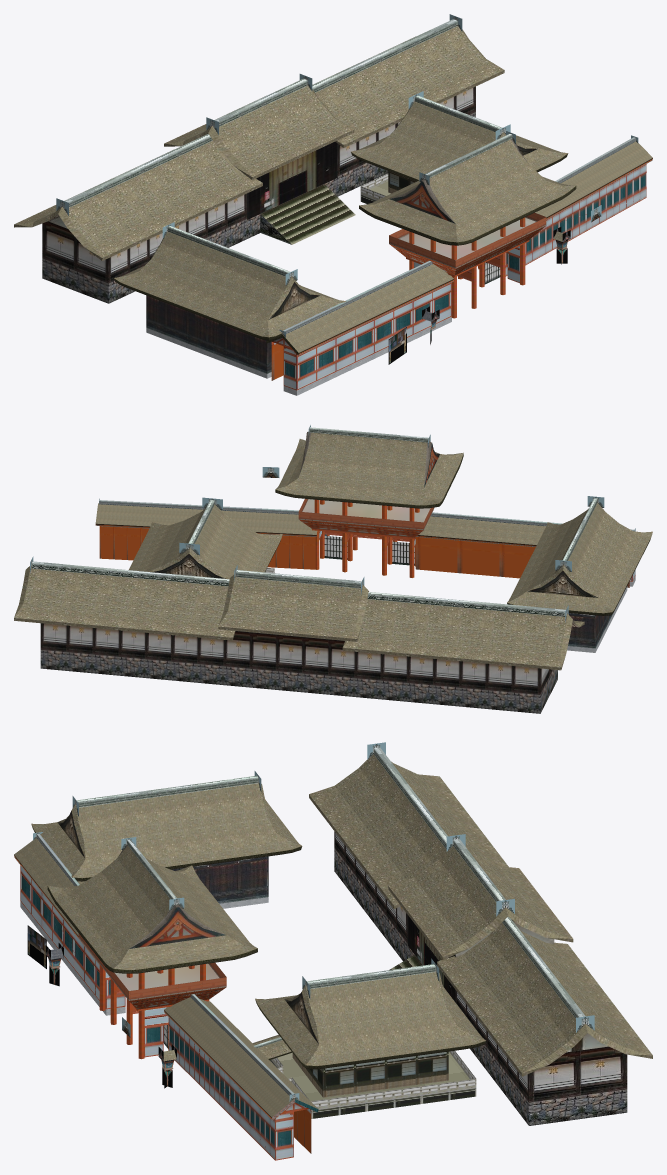
File: kamigamoshrine.glb
The picture shows the model from 3 angles, top to bottom: view 1: azimuth 30°, elevation 25°; view 2: azimuth 150°, elevation 25°; view 3: azimuth 270°, elevation 25°; orthographic projection. The views are drawn at different scales.
Parts seen in each view (by area): view 1: group_2.004, group_9.001, group_2.018, group_2.005, group_4, group_2.003, group_3, group_11.007, group_9.002, group_11.002, group_10.008, group_2.019 (+17 smaller); view 2: group_2.018, group_2.004, group_2.005, group_4, group_9.001, group_2.003, group_3, group_11.006, group_10.003, group_10.006, group_4.020, group_11.002 (+13 smaller); view 3: group_2.005, group_9.001, group_3, group_2.004, group_4, group_2.018, group_2.003, group_10.003, group_10.008, group_3.014, group_11.007, group_9.002 (+18 smaller).
Part boxes in pixels (box(x1,y1,x2,y2)): group_2.004: box(14, 141, 262, 260); group_9.001: box(114, 231, 345, 337); group_2.018: box(42, 86, 475, 303); group_2.005: box(312, 25, 504, 147); group_4: box(359, 139, 575, 242); group_2.003: box(164, 85, 354, 180); group_3: box(351, 101, 567, 179); group_11.007: box(272, 282, 451, 390); group_9.002: box(146, 295, 271, 373); group_11.002: box(283, 264, 453, 352); group_10.008: box(505, 164, 646, 276); group_2.019: box(247, 142, 337, 219); group_2.018: box(40, 623, 557, 713); group_2.004: box(342, 599, 584, 670); group_2.005: box(14, 566, 235, 640); group_4: box(275, 432, 463, 505); group_9.001: box(507, 503, 652, 613); group_2.003: box(218, 574, 368, 641); group_3: box(129, 504, 282, 579); group_11.006: box(415, 537, 629, 587); group_10.003: box(95, 503, 317, 534); group_10.006: box(99, 526, 315, 569); group_4.020: box(299, 499, 430, 538); group_11.002: box(418, 516, 545, 544); group_2.005: box(437, 923, 652, 1076); group_9.001: box(31, 782, 301, 878); group_3: box(255, 971, 485, 1065); group_2.004: box(309, 754, 508, 908); group_4: box(48, 846, 257, 969); group_2.018: box(334, 831, 627, 1125); group_2.003: box(388, 846, 573, 960); group_10.003: box(164, 997, 317, 1116); group_10.008: box(169, 1018, 308, 1160); group_3.014: box(292, 1051, 448, 1097); group_11.007: box(20, 865, 106, 1008); group_9.002: box(171, 856, 268, 903).
Size of the model in its own units: 46.05 by 11.26 by 38.9.
31 materials, 31 textured.
